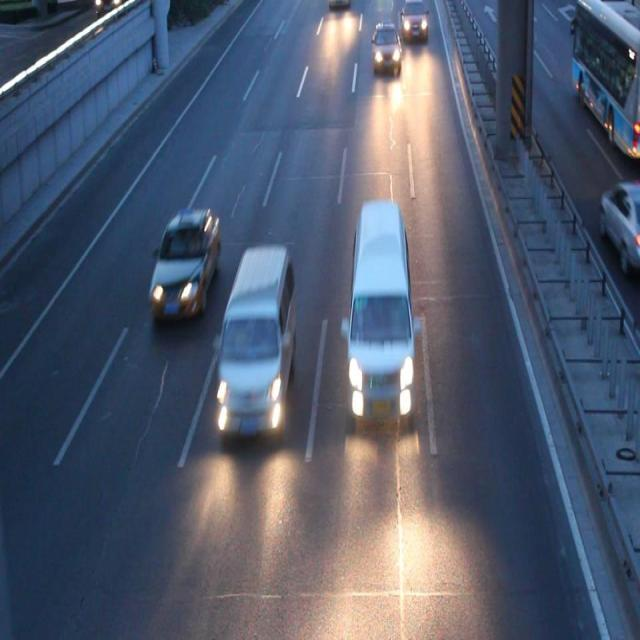car: (148, 212, 218, 317), (598, 183, 640, 269), (371, 22, 400, 70), (400, 1, 427, 39), (328, 1, 349, 12)
truck: (347, 200, 415, 422), (220, 249, 294, 434)
van: (572, 1, 640, 154)
